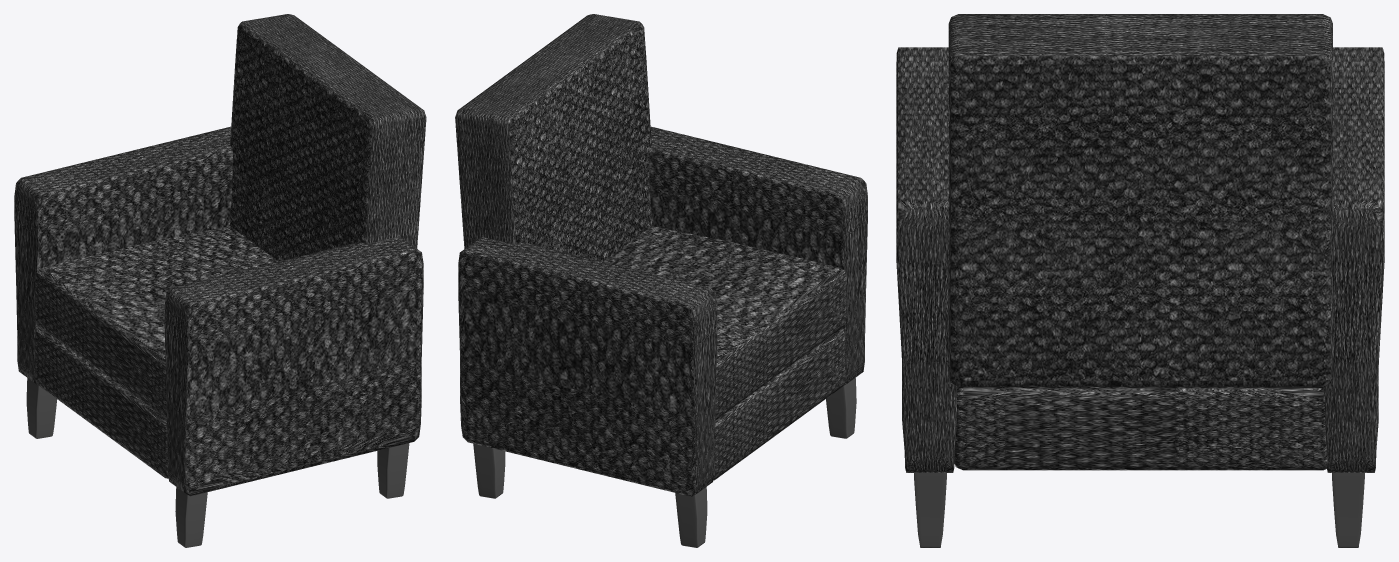
File: Sofa-Black-Lobbyy-textured.fbx
The picture shows the model from 3 angles, left to right: view 1: azimuth 30°, elevation 25°; view 2: azimuth 150°, elevation 25°; view 3: azimuth 270°, elevation 25°; orthographic projection. The views are drawn at different scales.
Visible parts, largest first — view 1: Sofa_5, Sofa_4, Sofa_2, Sofa_3, Sofa_1, Sofa_9, Sofa_6, Sofa_8; view 2: Sofa_2, Sofa_4, Sofa_5, Sofa_3, Sofa_1, Sofa_8, Sofa_7, Sofa_9; view 3: Sofa_4, Sofa_1, Sofa_5, Sofa_2, Sofa_7, Sofa_6, Sofa_3.
Boxes of the visible parts, left/top/right/bottom form: Sofa_5: left=164, top=236, right=423, bottom=496; Sofa_4: left=230, top=14, right=426, bottom=261; Sofa_2: left=14, top=126, right=232, bottom=384; Sofa_3: left=35, top=226, right=277, bottom=419; Sofa_1: left=35, top=327, right=168, bottom=478; Sofa_9: left=175, top=487, right=207, bottom=547; Sofa_6: left=377, top=443, right=409, bottom=498; Sofa_8: left=26, top=378, right=57, bottom=438; Sofa_2: left=458, top=237, right=717, bottom=496; Sofa_4: left=455, top=14, right=651, bottom=261; Sofa_5: left=649, top=126, right=867, bottom=385; Sofa_3: left=604, top=226, right=846, bottom=420; Sofa_1: left=713, top=328, right=845, bottom=480; Sofa_8: left=675, top=487, right=707, bottom=547; Sofa_7: left=473, top=443, right=505, bottom=498; Sofa_9: left=826, top=378, right=856, bottom=438; Sofa_4: left=948, top=14, right=1332, bottom=386; Sofa_1: left=954, top=387, right=1327, bottom=470; Sofa_5: left=896, top=47, right=956, bottom=472; Sofa_2: left=1323, top=47, right=1384, bottom=472; Sofa_7: left=1332, top=473, right=1364, bottom=547; Sofa_6: left=914, top=473, right=946, bottom=547; Sofa_3: left=957, top=386, right=1324, bottom=388.
Bounding box in the file's own units: 0.949 × 1.3 × 1.1.
